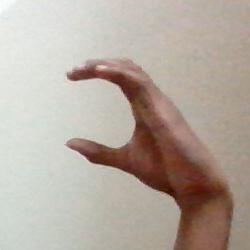c: (40, 15, 242, 250)
